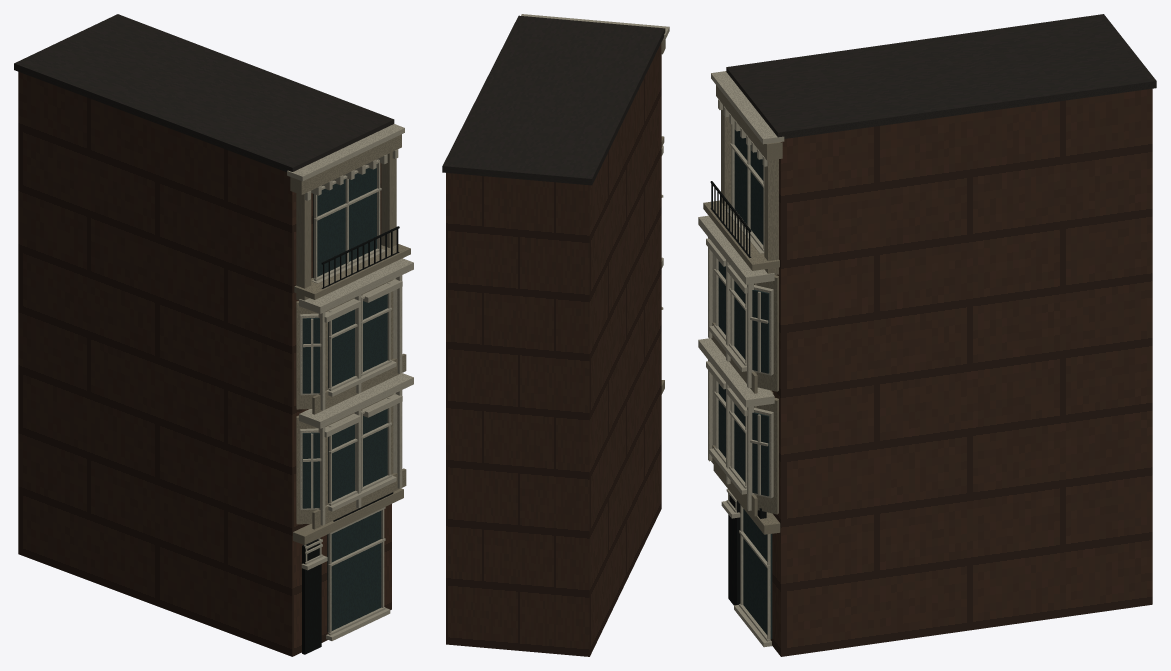
The picture shows the model from 3 angles, left to right: view 1: azimuth 30°, elevation 25°; view 2: azimuth 150°, elevation 25°; view 3: azimuth 270°, elevation 25°; orthographic projection. The views are drawn at different scales.
Parts seen in each view (by area): view 1: nieuwehaven139-0, nieuwehaven139-1, nieuwehaven139-3, nieuwehaven139-4, nieuwehaven139-2, nieuwehaven139-5; view 2: nieuwehaven139-0, nieuwehaven139-1, nieuwehaven139-3; view 3: nieuwehaven139-0, nieuwehaven139-1, nieuwehaven139-3, nieuwehaven139-4, nieuwehaven139-2, nieuwehaven139-5.
Boxes of the visible parts, x1,y1,x2,y2 form: nieuwehaven139-0: (18, 72, 391, 656); nieuwehaven139-1: (14, 14, 394, 172); nieuwehaven139-3: (287, 124, 413, 640); nieuwehaven139-4: (302, 164, 387, 632); nieuwehaven139-2: (290, 134, 410, 544); nieuwehaven139-5: (302, 226, 399, 654); nieuwehaven139-0: (446, 43, 661, 656); nieuwehaven139-1: (442, 15, 665, 185); nieuwehaven139-3: (521, 14, 669, 309); nieuwehaven139-0: (770, 88, 1152, 656); nieuwehaven139-1: (726, 14, 1156, 138); nieuwehaven139-3: (698, 71, 784, 647); nieuwehaven139-4: (718, 129, 772, 638); nieuwehaven139-2: (703, 85, 782, 534); nieuwehaven139-5: (710, 181, 766, 605).
Size of the model in its own units: 8.79 by 17.74 by 14.05.
6 materials, 6 textured.
